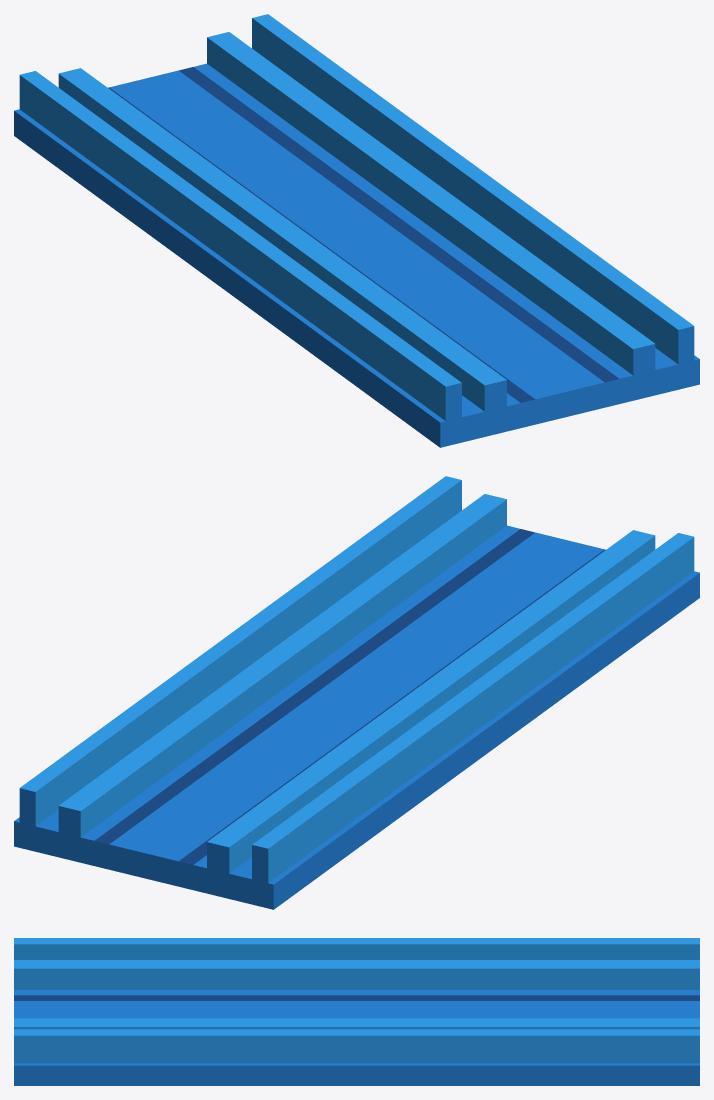
The model's file is Track_Straight_Half.fbx.
The picture shows the model from 3 angles, top to bottom: view 1: azimuth 30°, elevation 25°; view 2: azimuth 150°, elevation 25°; view 3: azimuth 270°, elevation 25°; orthographic projection. The views are drawn at different scales.
Visible parts, largest first — view 1: Molded blue rail; view 2: Molded blue rail; view 3: Molded blue rail.
Boxes of the visible parts, left/top/right/bottom form: Molded blue rail: left=14, top=14, right=699, bottom=447; Molded blue rail: left=14, top=476, right=699, bottom=909; Molded blue rail: left=14, top=938, right=699, bottom=1085.
Bounding box in the file's own units: 106 × 23.21 × 300.
